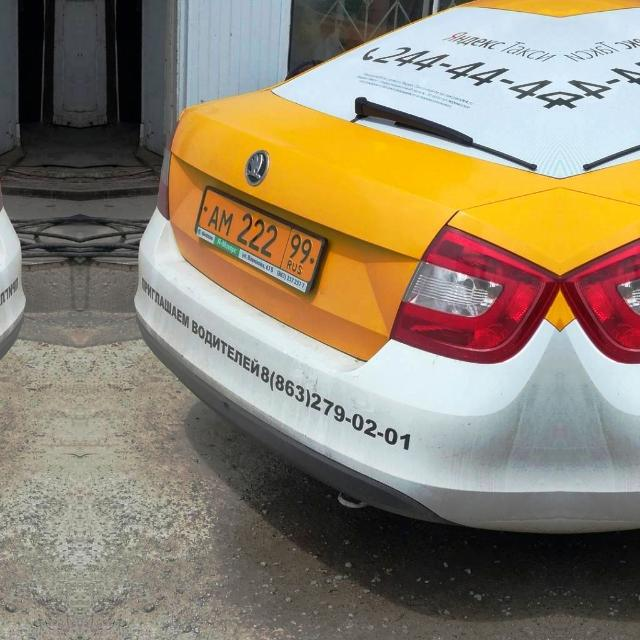taxi: (182, 178, 336, 312)
